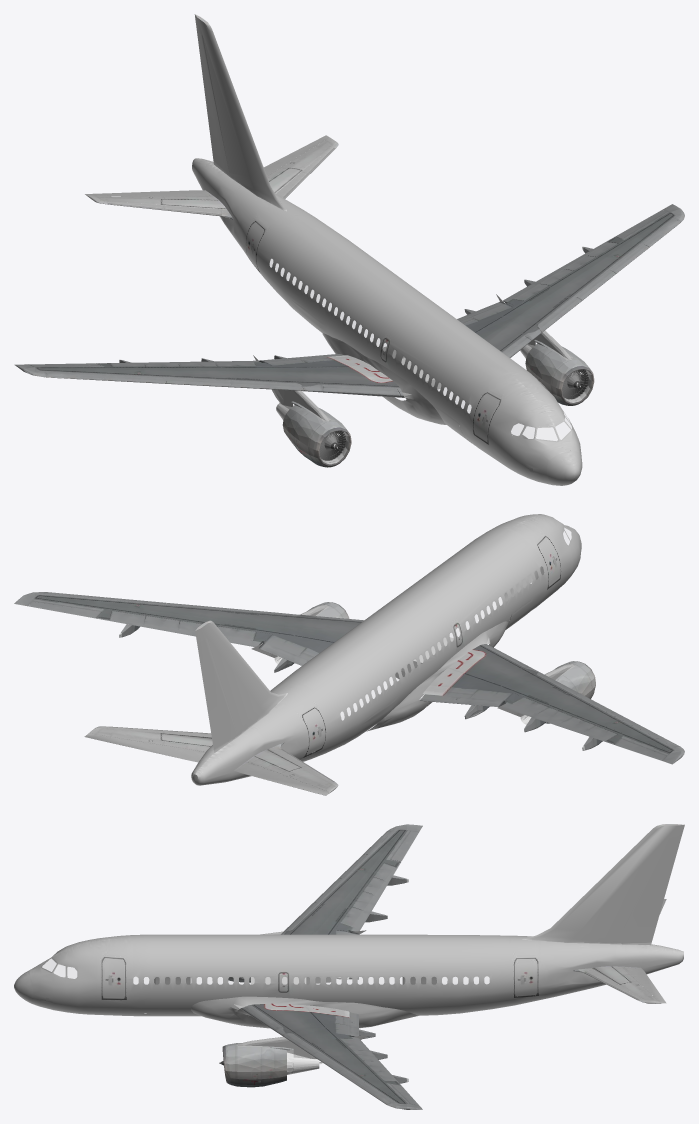
The picture shows the model from 3 angles, top to bottom: view 1: azimuth 30°, elevation 25°; view 2: azimuth 150°, elevation 25°; view 3: azimuth 270°, elevation 25°; orthographic projection. The views are drawn at different scales.
Parts seen in each view (by area): view 1: EngineL, Cargo1Int, CockpitWindows; view 2: EngineL, Cargo1Int, CockpitWindows; view 3: EngineL, Cargo1Int, CockpitWindows.
Boxes of the visible parts, left/top/right/bottom form: EngineL: left=14, top=14, right=684, bottom=485; Cargo1Int: left=253, top=294, right=591, bottom=464; CockpitWindows: left=270, top=259, right=571, bottom=440; EngineL: left=14, top=514, right=684, bottom=795; Cargo1Int: left=251, top=530, right=575, bottom=724; CockpitWindows: left=341, top=527, right=570, bottom=719; EngineL: left=14, top=824, right=684, bottom=1109; Cargo1Int: left=41, top=930, right=436, bottom=1074; CockpitWindows: left=43, top=959, right=488, bottom=984.
Bounding box in the file's own units: 33.91 × 11.64 × 33.89.
Materials: 3 (3 with a texture image).
